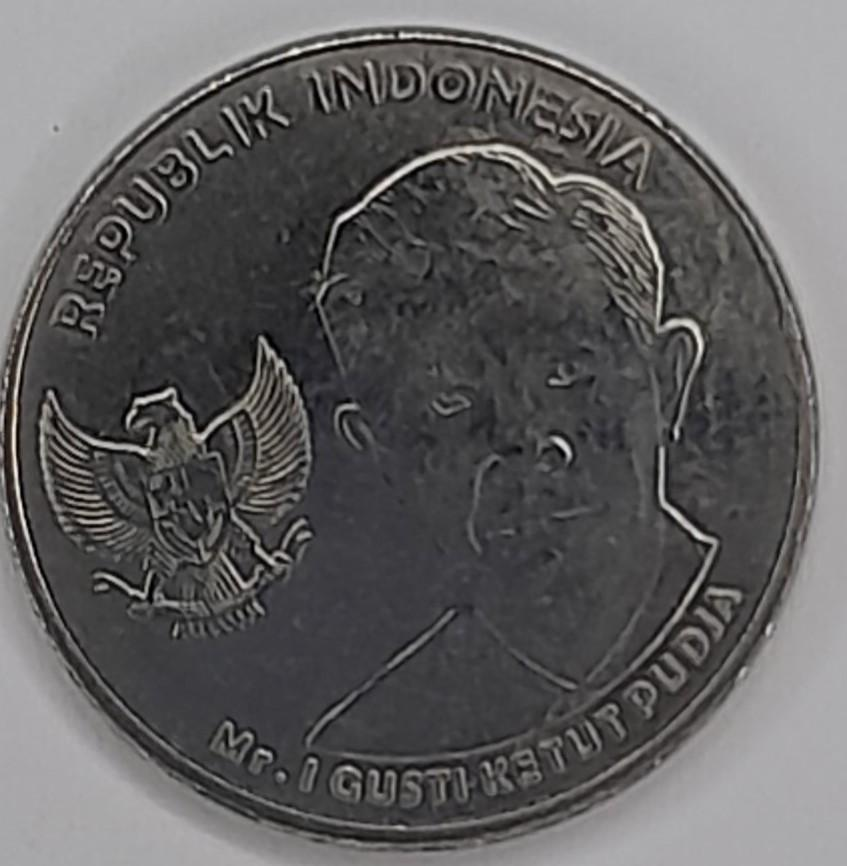coin_1000_e2016: (14, 17, 836, 866)
